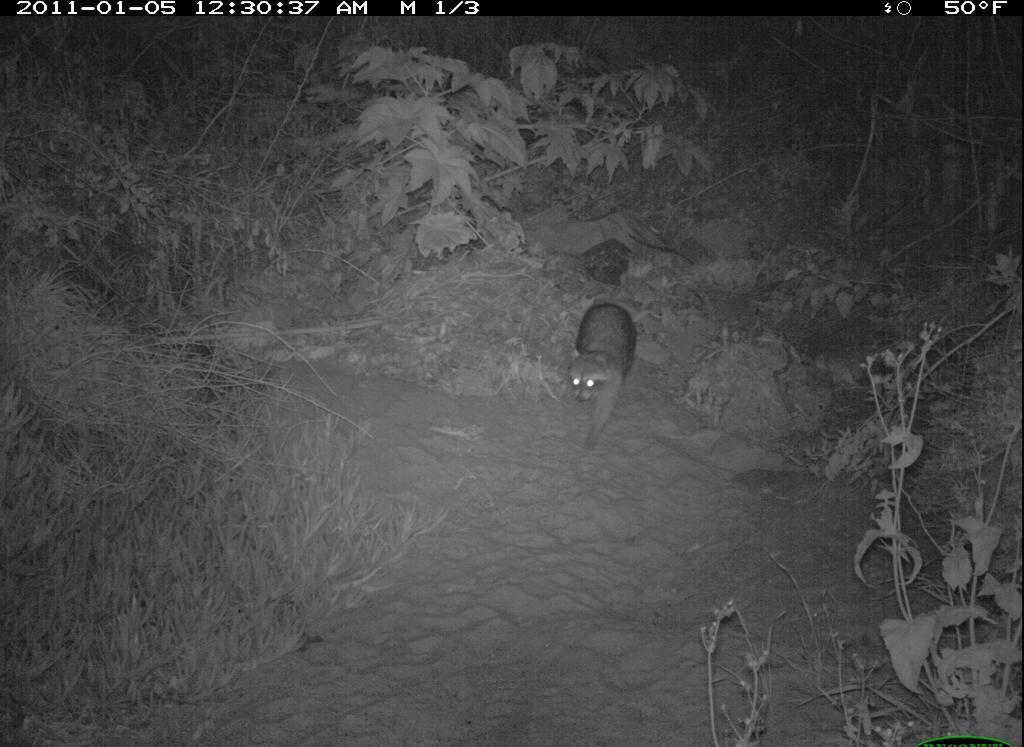raccoon: (553, 299, 641, 450)
